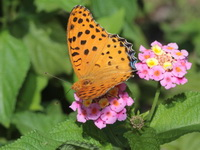Argyreus hyperbius: (44, 2, 141, 107)
butterfly: (42, 1, 139, 105)
